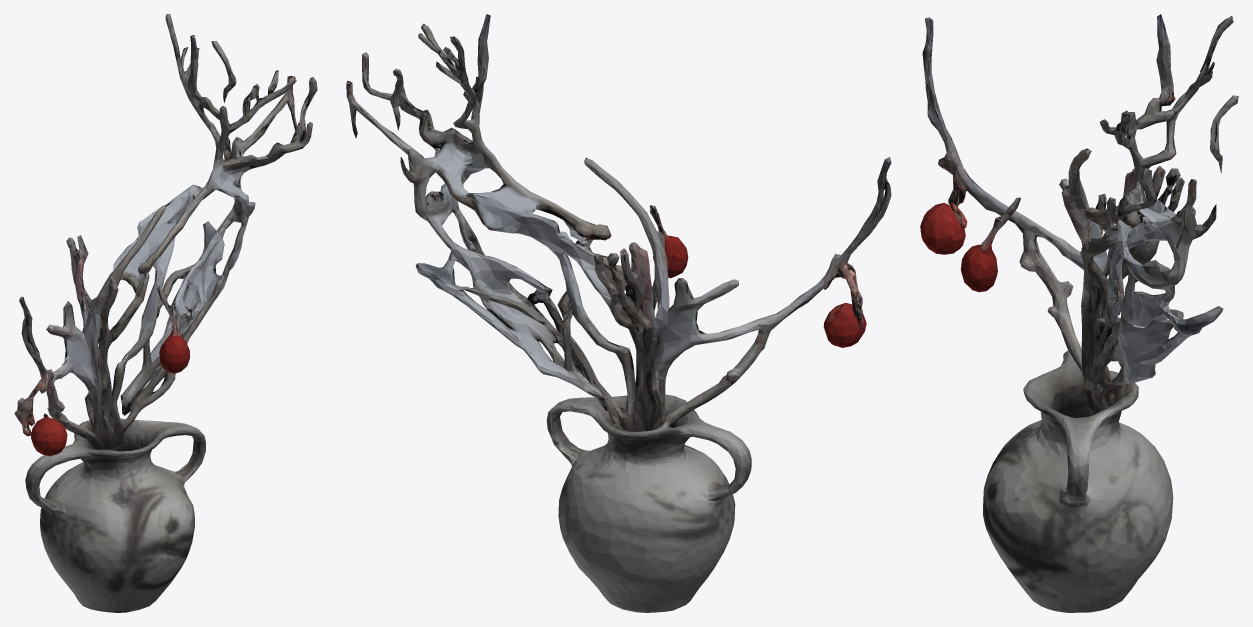
3 views of the same model, side by side, from view 1: azimuth 30°, elevation 25°; view 2: azimuth 150°, elevation 25°; view 3: azimuth 270°, elevation 25° (orthographic). The views are drawn at different scales.
Visible parts, largest first — view 1: world; view 2: world; view 3: world.
Boxes of the visible parts, bbox=[...] form: world: bbox=[14, 14, 317, 612]; world: bbox=[346, 14, 891, 612]; world: bbox=[920, 14, 1238, 612].
Bounding box in the file's own units: 0.7791 × 0.9996 × 0.4449.
1 material, 1 textured.
